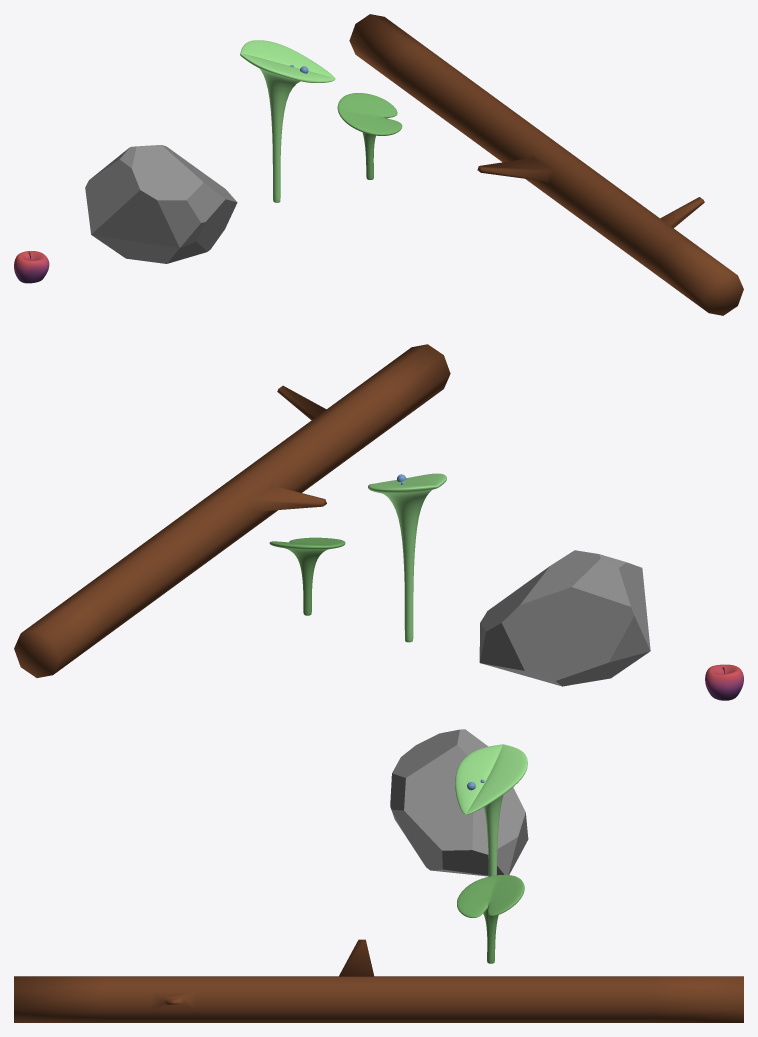
File: Background.fbx
3 views of the same model, one above another, from view 1: azimuth 30°, elevation 25°; view 2: azimuth 150°, elevation 25°; view 3: azimuth 270°, elevation 25° (orthographic). The views are drawn at different scales.
Visible parts, largest first — view 1: Wood, Rock, lotus_leaf, lotus_leaf_s, apple; view 2: Wood, Rock, lotus_leaf, lotus_leaf_s, apple; view 3: Wood, Rock, lotus_leaf, lotus_leaf_s.
Part boxes in pixels (x1,y1,x2,y2): Wood: [349, 14, 743, 315]; Rock: [85, 145, 237, 263]; lotus_leaf: [240, 40, 335, 202]; lotus_leaf_s: [337, 93, 402, 179]; apple: [14, 251, 49, 283]; Wood: [14, 344, 450, 677]; Rock: [479, 550, 650, 686]; lotus_leaf: [368, 473, 446, 642]; lotus_leaf_s: [269, 537, 345, 615]; apple: [705, 664, 743, 700]; Wood: [14, 939, 743, 1022]; Rock: [390, 729, 528, 876]; lotus_leaf: [455, 744, 527, 876]; lotus_leaf_s: [457, 874, 524, 963].
Size of the model in its own units: 435 by 120 by 482.
